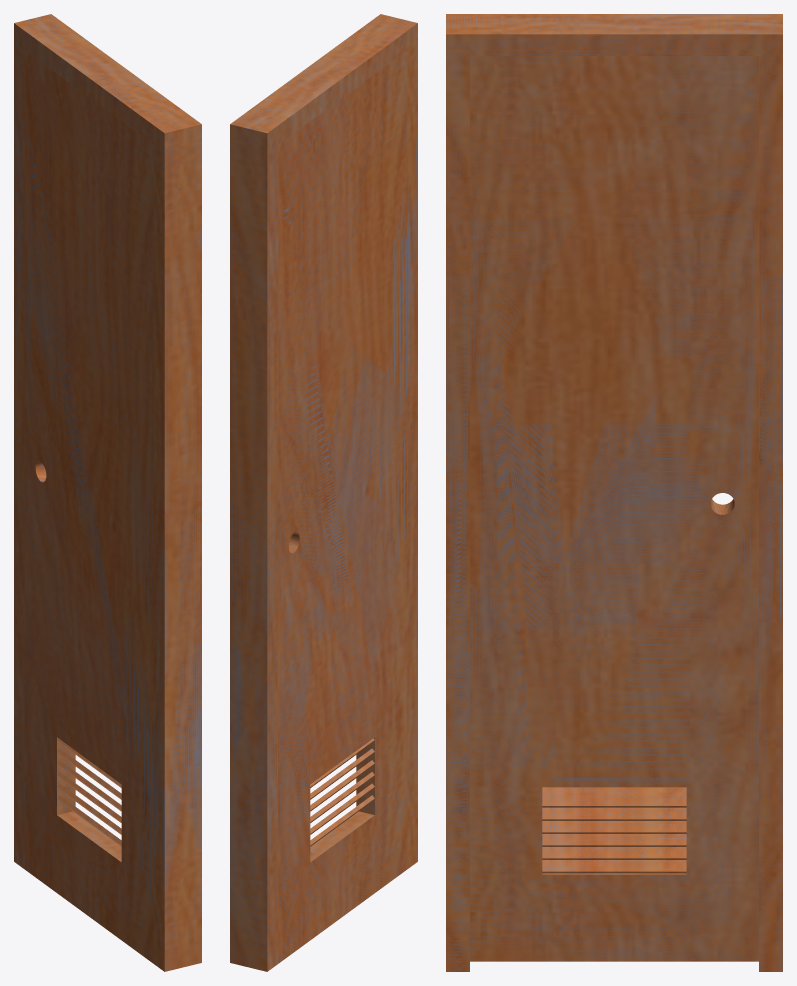
File: porta2.dae
The picture shows the model from 3 angles, left to right: view 1: azimuth 30°, elevation 25°; view 2: azimuth 150°, elevation 25°; view 3: azimuth 270°, elevation 25°; orthographic projection. The views are drawn at different scales.
Visible parts, largest first — view 1: group_2 (×2), group_4, Component_50 (×5); view 2: group_2 (×2), group_4, Component_50 (×5); view 3: group_2, group_4, Component_50 (×6).
Part boxes in pixels (left/top/right/bottom): group_2 (×2): left=24, top=50, right=153, bottom=963; group_4: left=14, top=14, right=201, bottom=971; Component_50 (×5): left=57, top=748, right=121, bottom=846; group_2 (×2): left=278, top=50, right=407, bottom=963; group_4: left=230, top=14, right=417, bottom=971; Component_50 (×5): left=310, top=748, right=374, bottom=846; group_2: left=470, top=56, right=758, bottom=961; group_4: left=446, top=14, right=782, bottom=971; Component_50 (×6): left=542, top=787, right=686, bottom=873.
Bounding box in the file's own units: 3.94 × 27.56 × 84.65.
